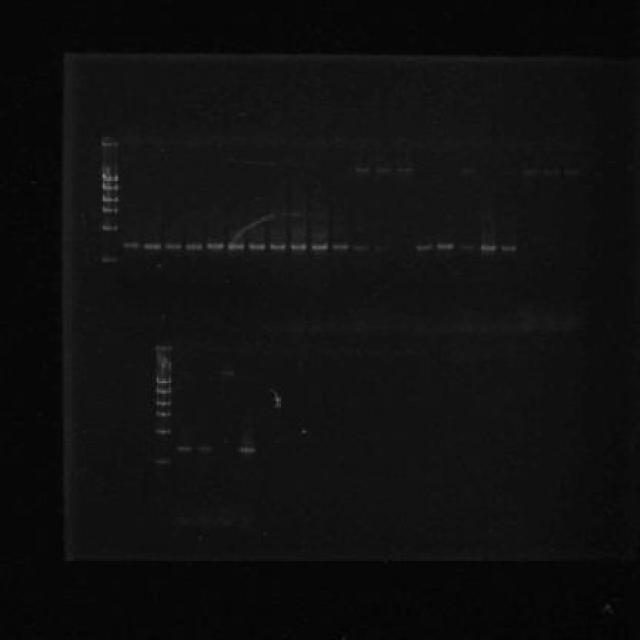B: (478, 243, 498, 251), (268, 242, 287, 250), (227, 242, 246, 250), (143, 243, 162, 251), (185, 243, 204, 251), (354, 166, 372, 174), (436, 242, 454, 250), (248, 242, 266, 250), (164, 242, 182, 250), (416, 242, 434, 250), (290, 243, 308, 251), (310, 243, 328, 251), (207, 242, 224, 250), (500, 243, 517, 251), (458, 168, 477, 175), (330, 243, 350, 249), (238, 447, 258, 453), (376, 166, 394, 172), (122, 242, 140, 248), (397, 167, 414, 173), (197, 446, 212, 452), (177, 446, 192, 452)
M: (92, 134, 123, 268), (151, 339, 177, 472)
P: (98, 254, 120, 266), (99, 172, 121, 183), (101, 193, 121, 204), (100, 222, 120, 233), (154, 397, 174, 408), (100, 183, 122, 192), (153, 458, 173, 467), (153, 377, 174, 385), (153, 386, 174, 394), (154, 427, 172, 436), (101, 206, 121, 214), (154, 410, 174, 418)
Pc: (98, 136, 120, 150), (152, 344, 175, 353)
